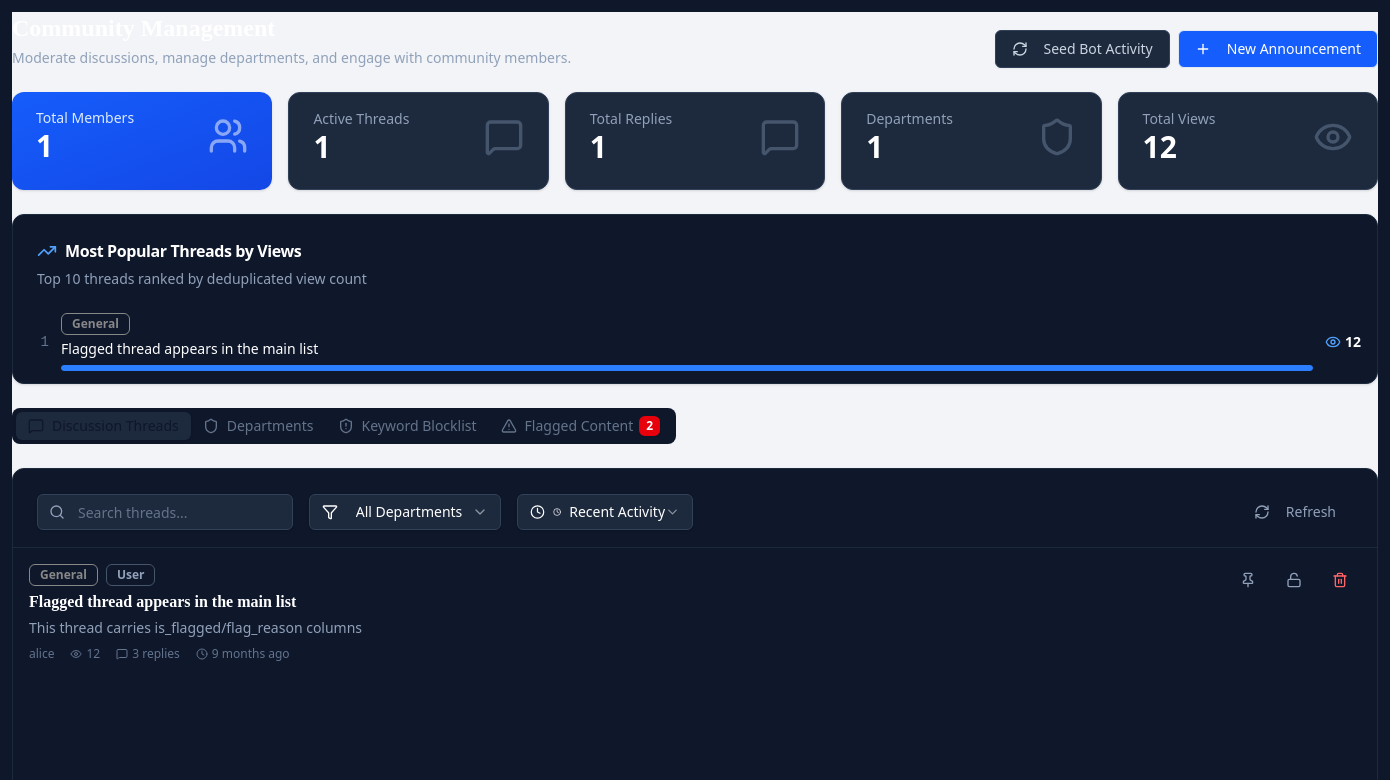
Test: CommunityManagement — renders with is_flagged/flag_reason present on rows › renders the Flagged Content tab without throwing when post/thread rows carry isFlagged/flagReason
This screenshot has width=1390, height=780.
Click the tab "Flagged Content 2": [580, 426] box top-left (488, 412), bottom-right (672, 440)
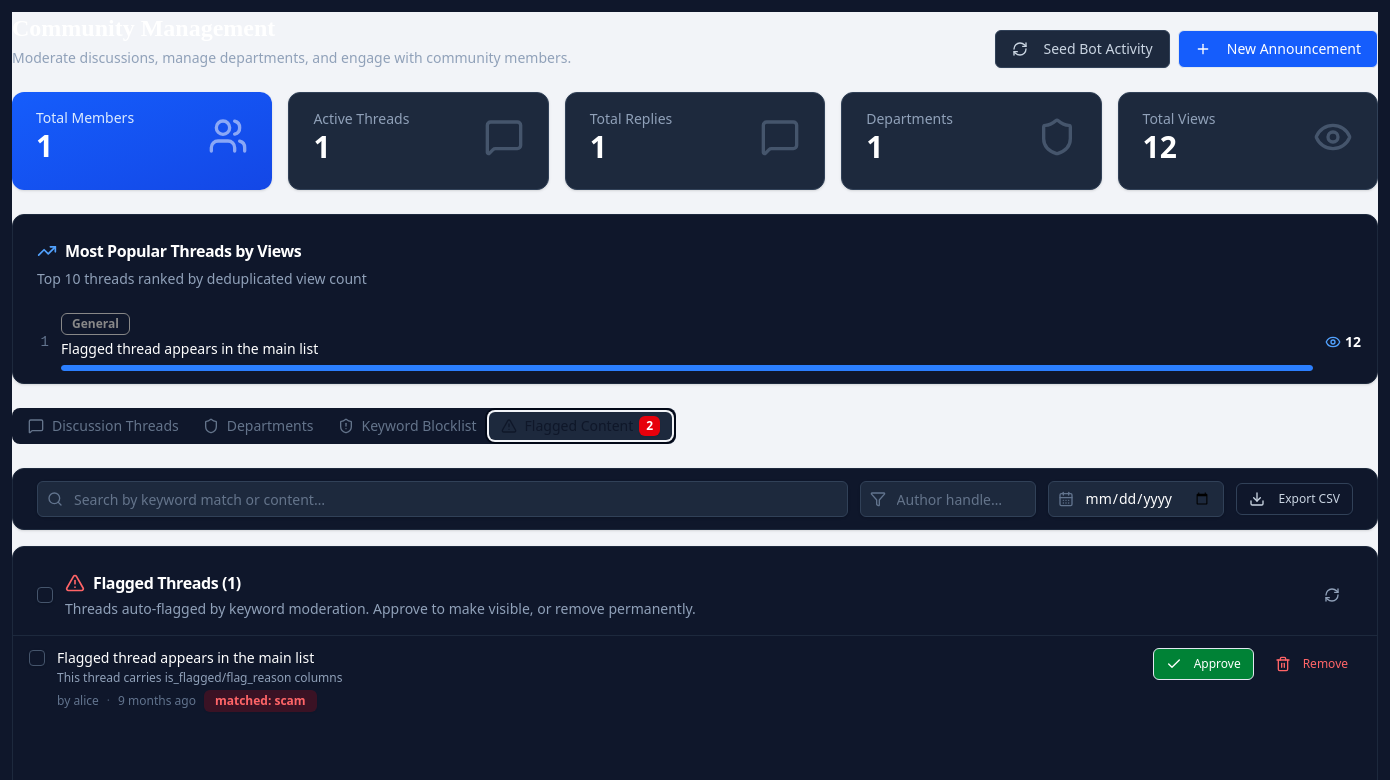
Expected: the text "Flagged thread appears in the main list" below "General" is shown, top-left (61, 339), bottom-right (318, 358)
Expected: the text "matched: scam" is shown, top-left (204, 690), bottom-right (317, 712)
